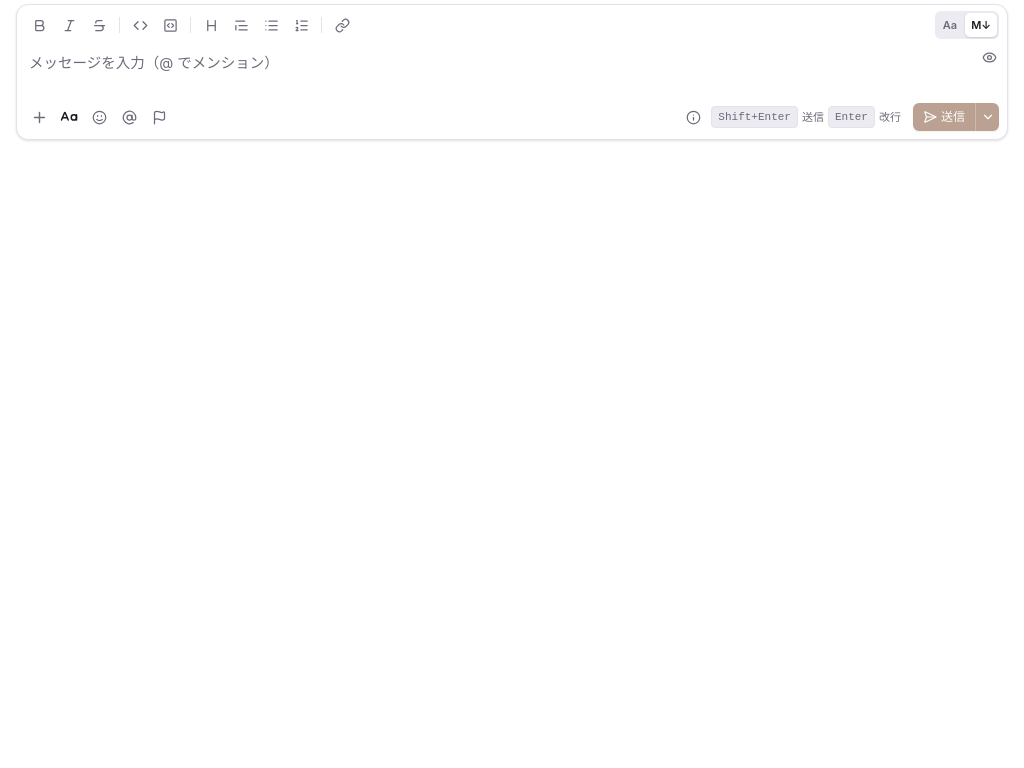
Test: /日程 (M30; a scheduling poll since M53) › opens the scheduling form with the dates (and times) typed as its candidates; nothing is posted yet
The image size is (1024, 768).
In the text box: (494, 71) [17, 39, 971, 103], type "/日程 ゼミ 10/3 10/4 13:00-14:30 10/6"
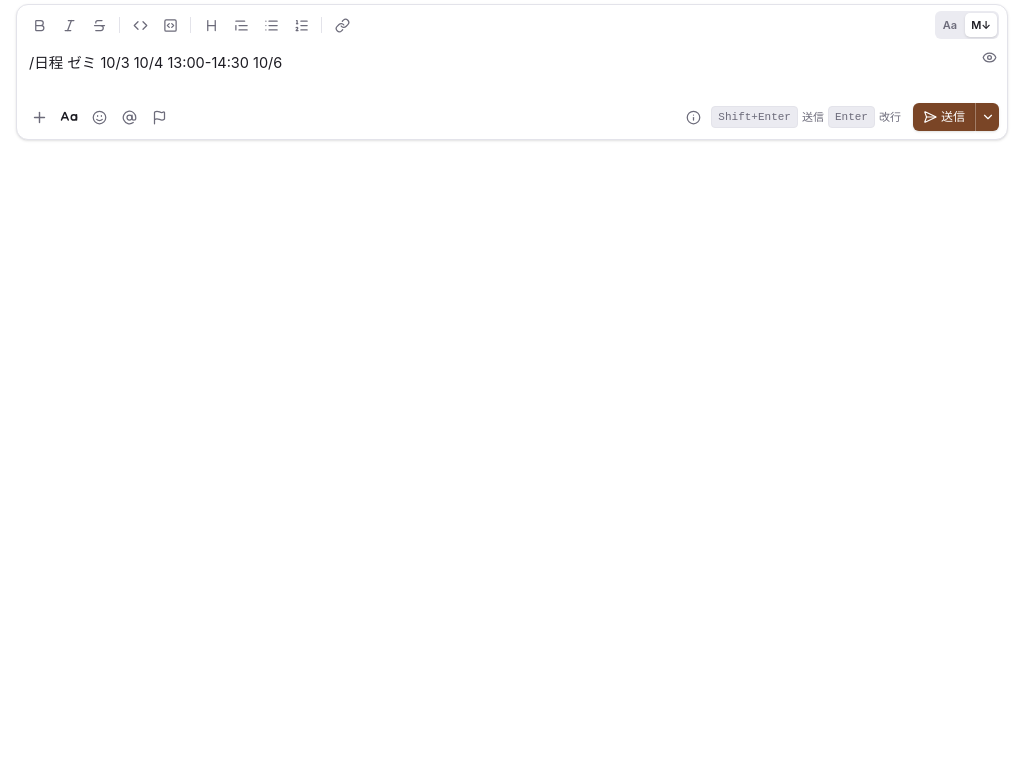
Press Enter in the text box, box [17, 39, 971, 103]
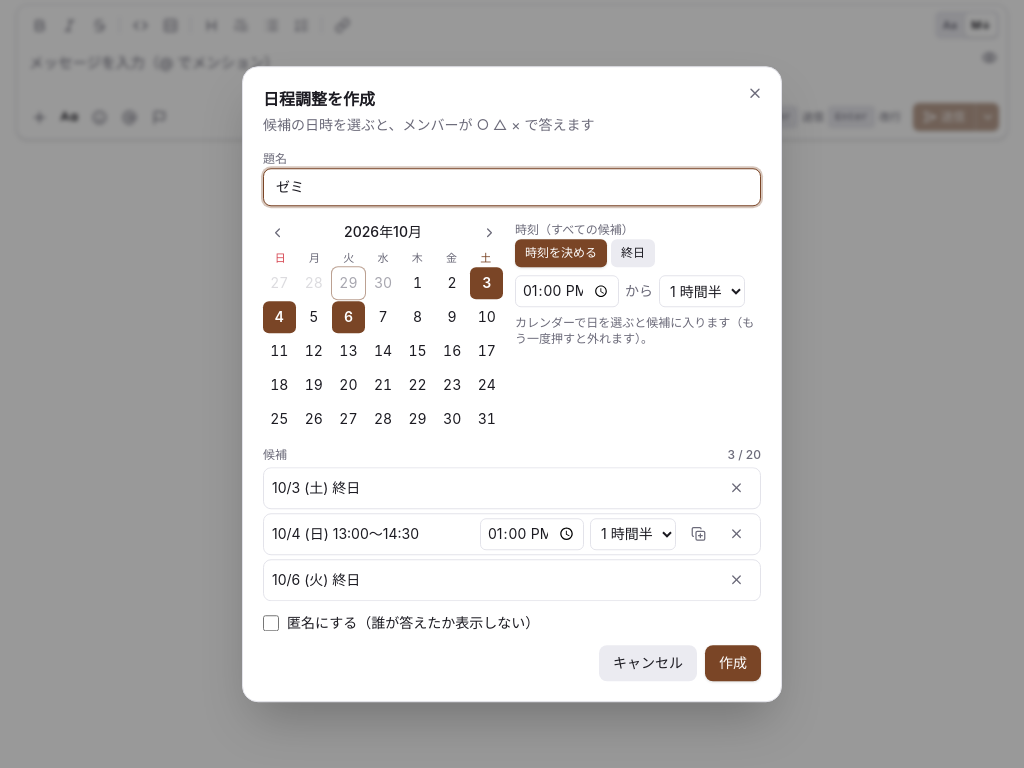
Expected: the dialog "日程調整を作成" is shown, [242, 66, 782, 702]
Expected: the field with placeholder "例：M2 中間発表の練習" holds "ゼミ", [263, 168, 761, 206]
Expected: the text box is empty, [17, 39, 971, 103]
